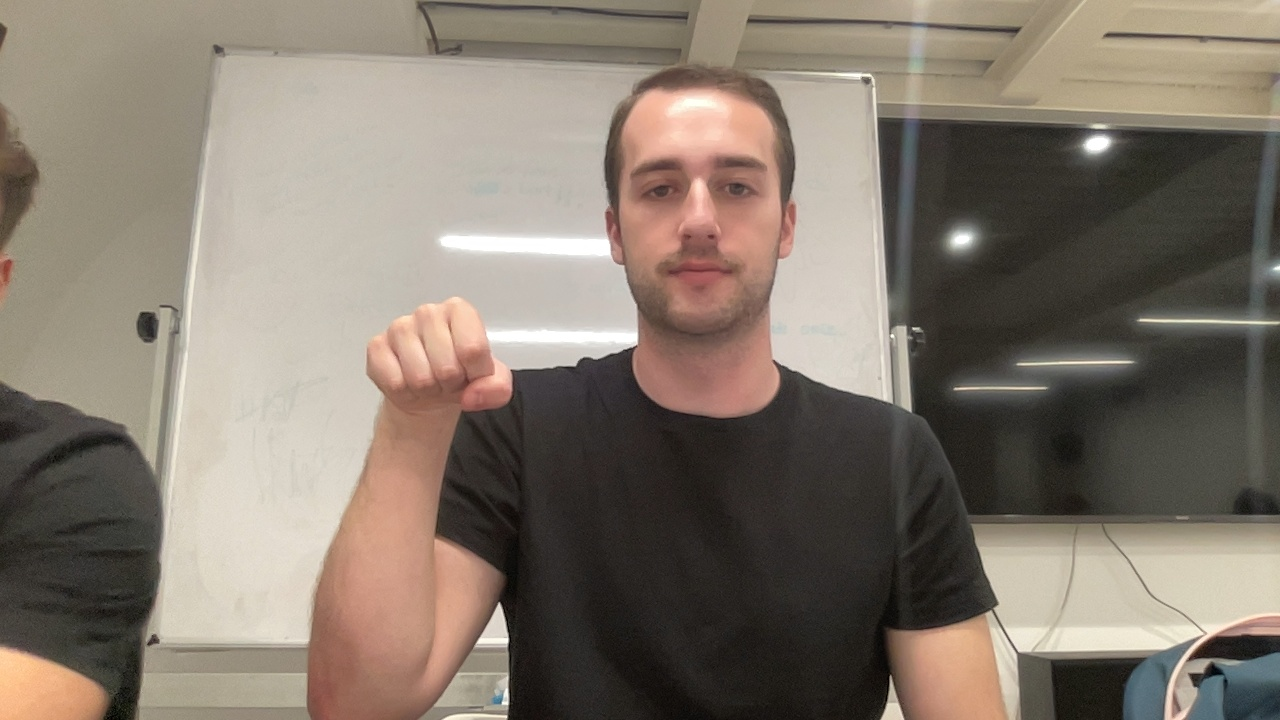Yes: (356, 290, 517, 461)
